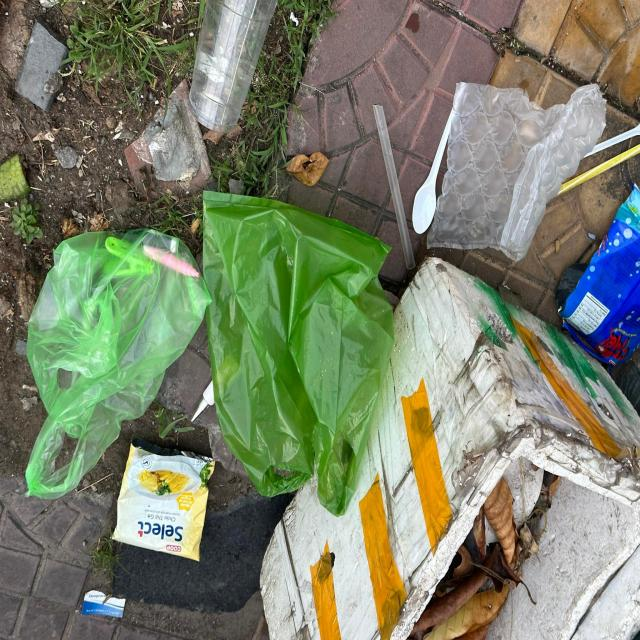bag: (198, 188, 395, 521), (28, 229, 211, 502), (426, 82, 608, 263)
drinking straw: (372, 99, 417, 277), (556, 143, 640, 194)
plastic utensil: (412, 81, 465, 234), (576, 123, 640, 159)
snack package: (554, 181, 640, 368), (116, 444, 212, 564)
